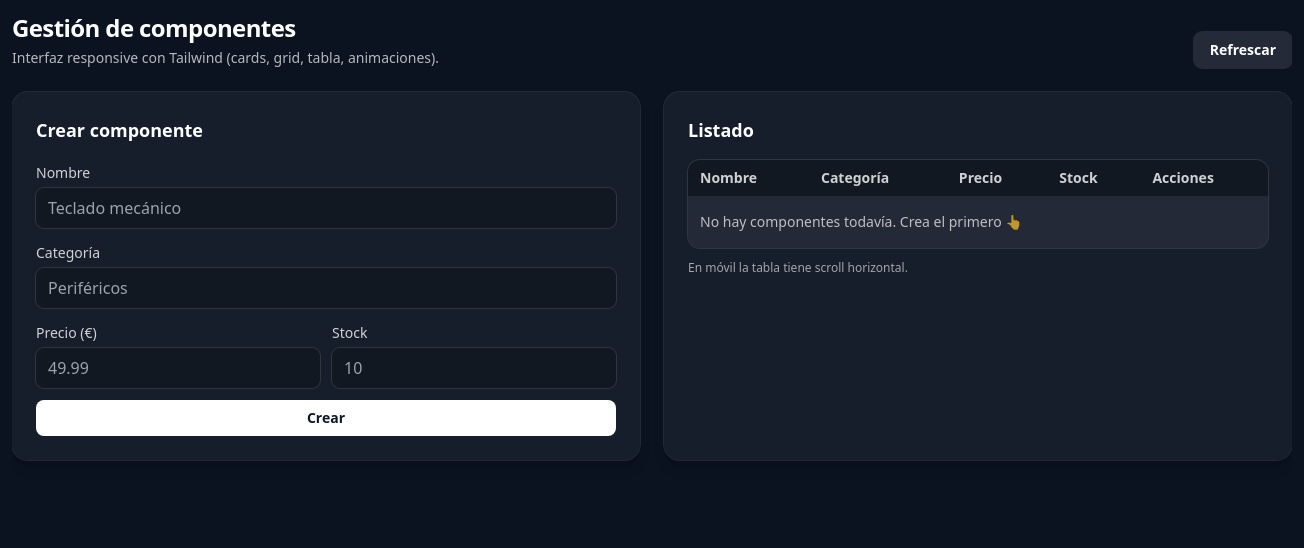
Scenario: ComponenteList › debe crear un componente y mostrar mensaje de éxito
The image size is (1304, 548).
Check: the text "No hay componentes todavía. Crea el primero 👆" is shown, box [688, 196, 1268, 248]
Type "SSD 1TB" into the field with placeholder "Teclado mecánico". click: (326, 208)
box: [36, 188, 616, 228]
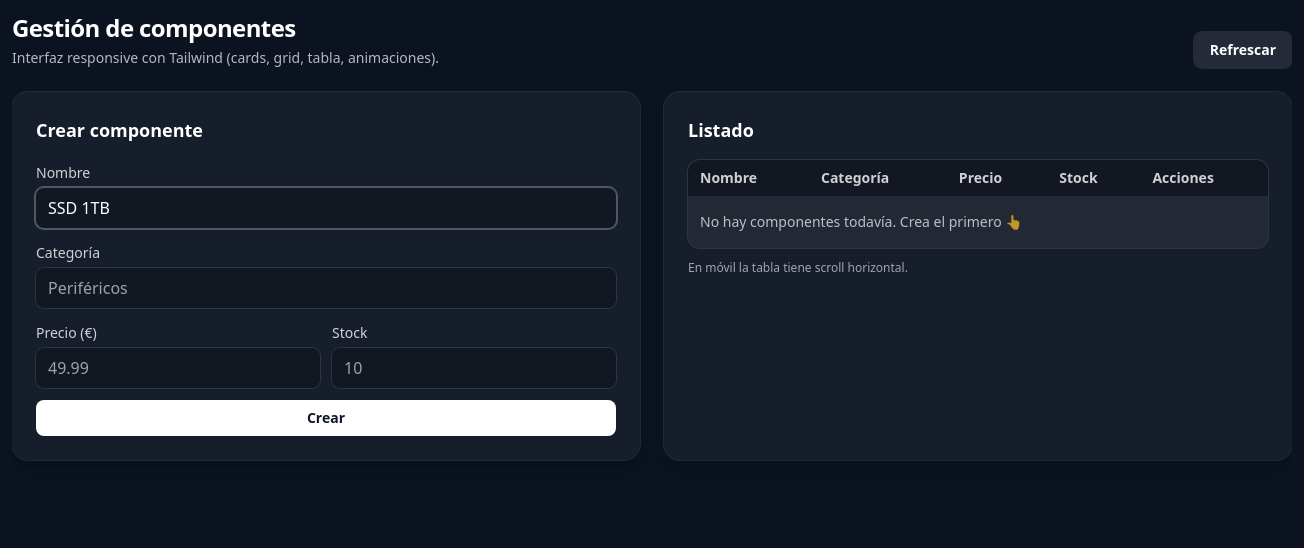
Type "Almacenamiento" into the field with placeholder "Periféricos". click: (326, 288)
box: [36, 268, 616, 308]
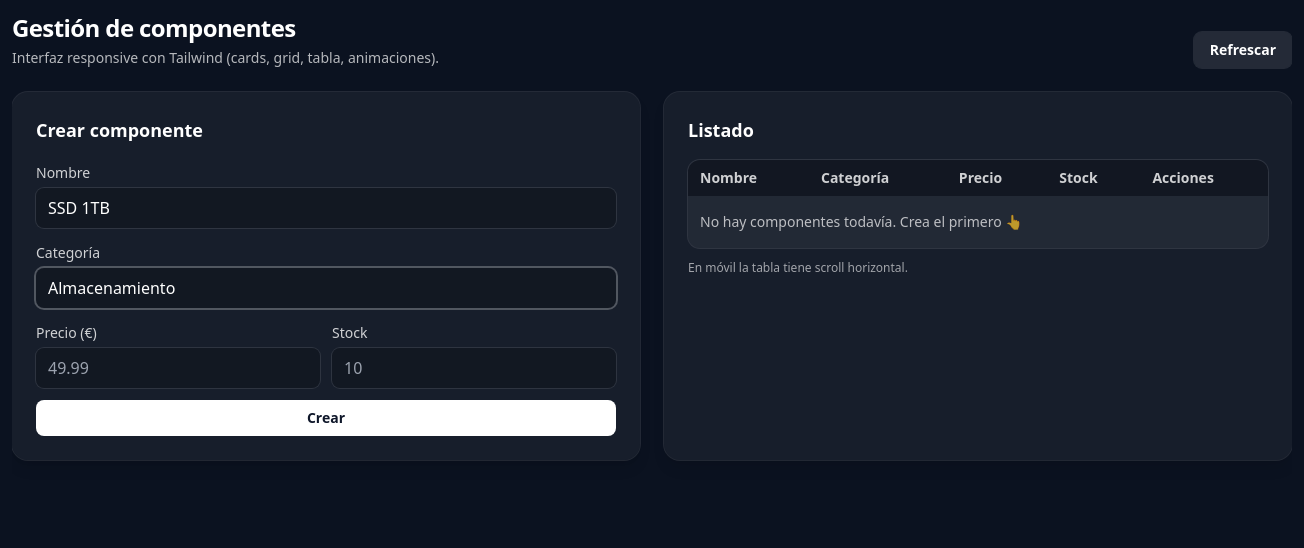
Type "89.99" into the field with placeholder "49.99". click: (178, 368)
box: [36, 348, 320, 388]
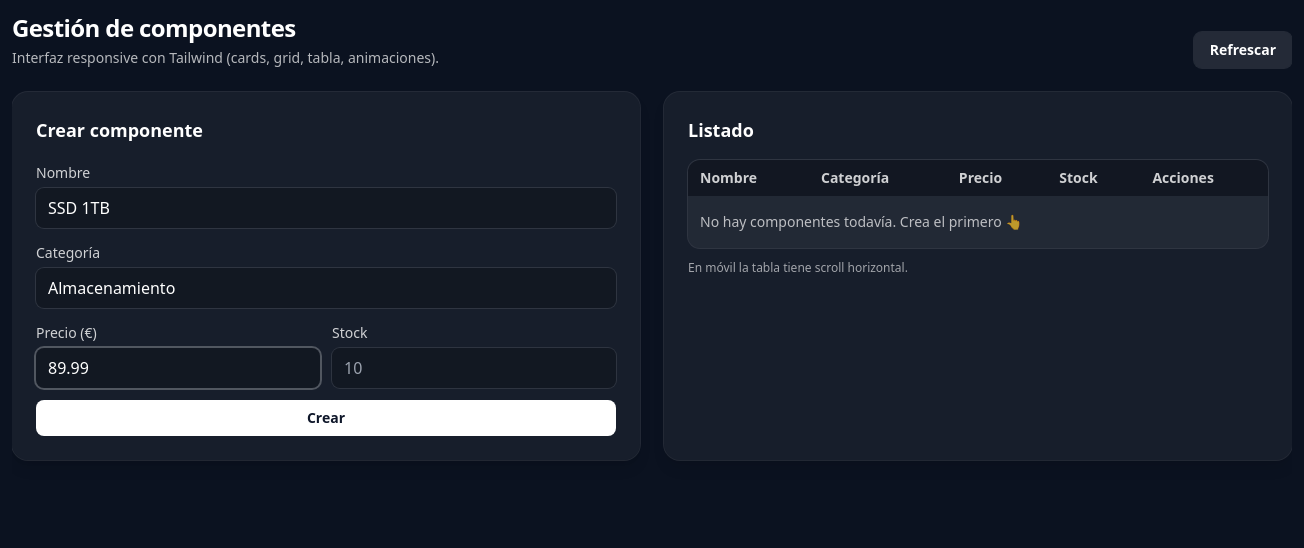
Type "20" into the field with placeholder "10". click: (474, 368)
box: [332, 348, 616, 388]
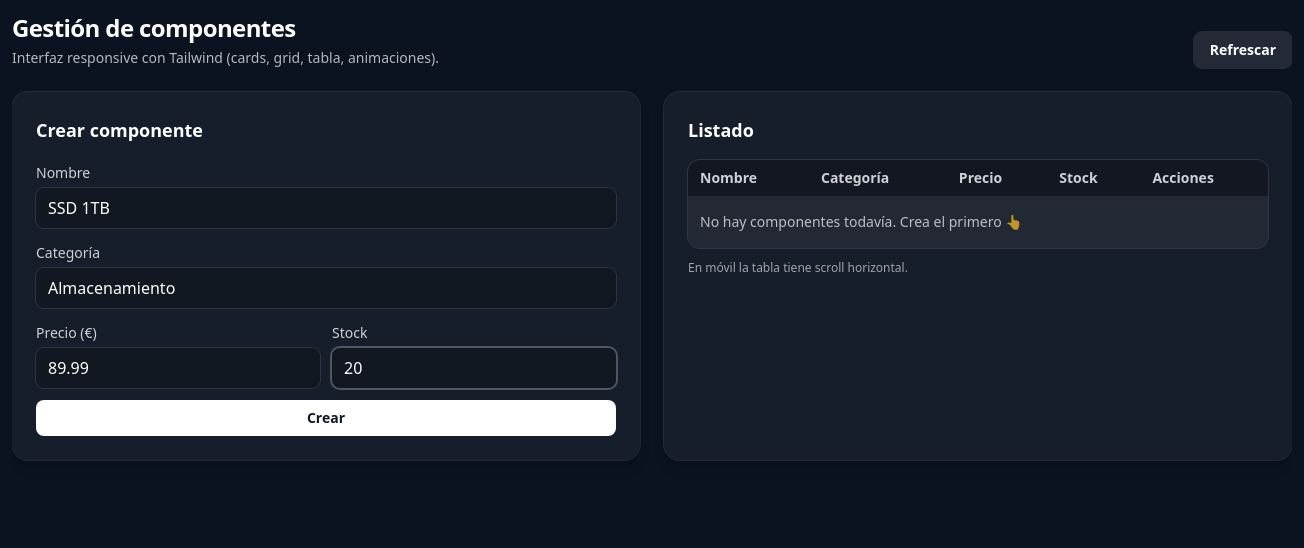
Click the button "Crear". click: (326, 418)
box: [36, 400, 616, 436]
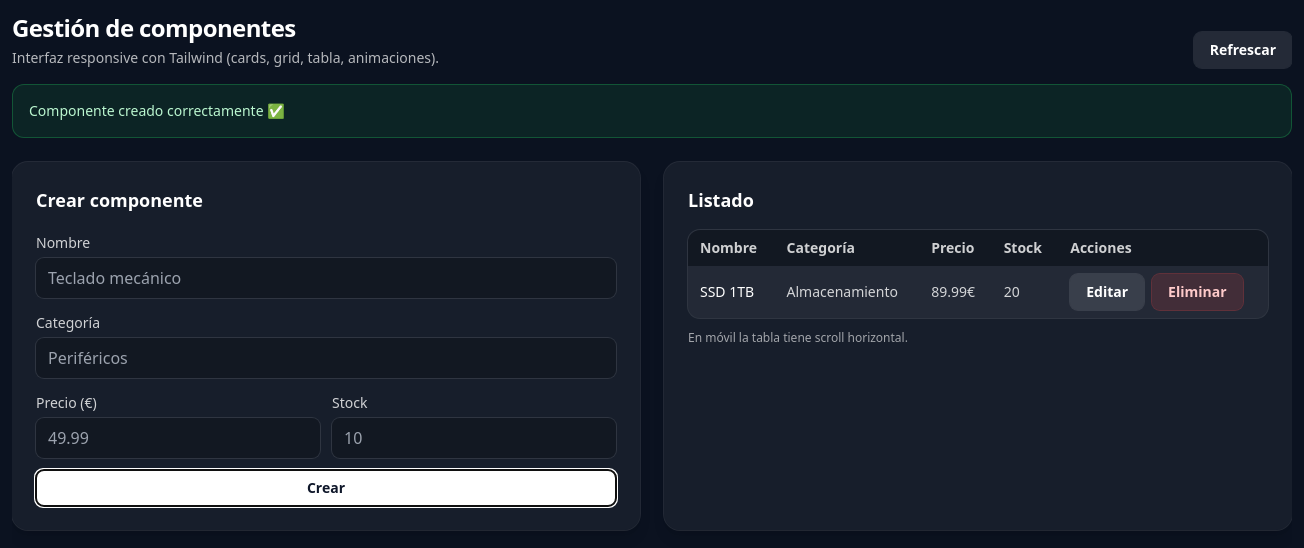
Check: the text "Componente creado correctamente ✅" is shown, box [12, 84, 1292, 138]
Check: the text "SSD 1TB" is shown, box [688, 266, 774, 318]
